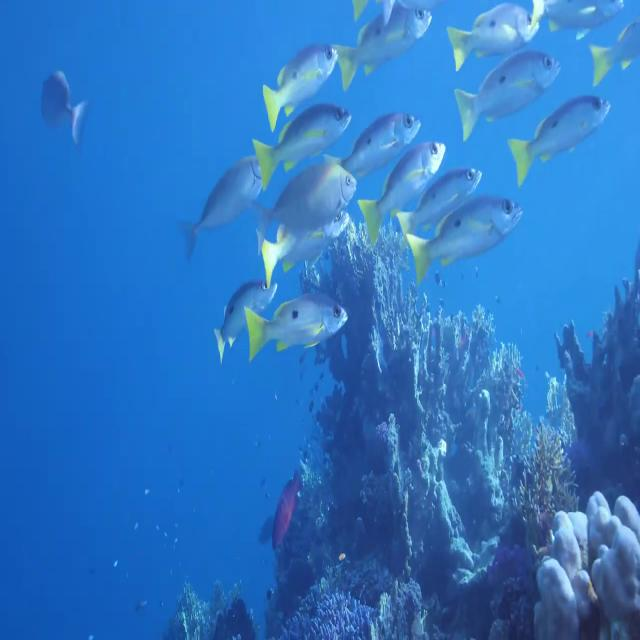fish: (405, 156, 520, 288), (453, 42, 571, 153), (505, 84, 612, 200), (358, 123, 450, 244), (180, 147, 267, 265), (392, 141, 482, 255), (253, 153, 356, 244), (339, 0, 437, 94), (246, 271, 346, 363), (436, 5, 540, 86), (210, 260, 276, 372), (259, 39, 341, 126), (338, 108, 426, 186), (41, 59, 94, 165), (516, 0, 629, 40), (588, 10, 640, 94)
